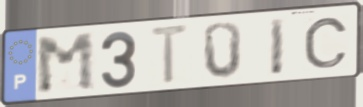0: (200, 20, 244, 82)
3: (98, 29, 138, 91)
C: (301, 15, 351, 71)
I: (268, 15, 288, 78)
M: (33, 31, 98, 97)
T: (147, 22, 194, 88)
